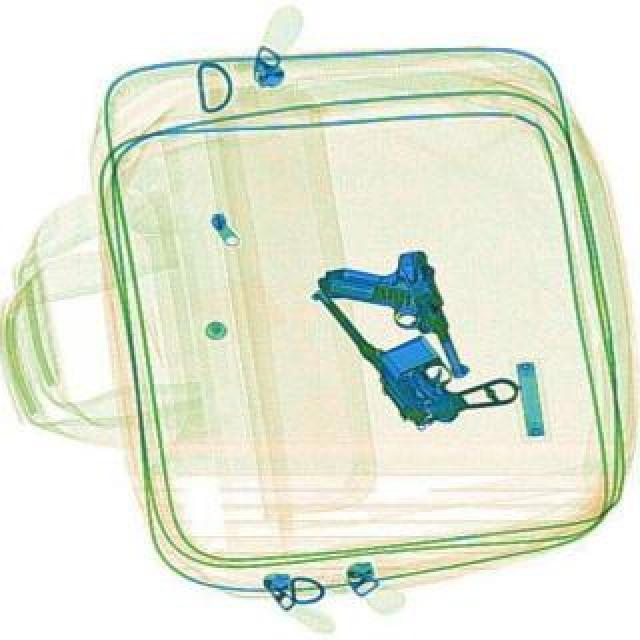gun: (308, 236, 524, 456), (308, 238, 472, 410)
